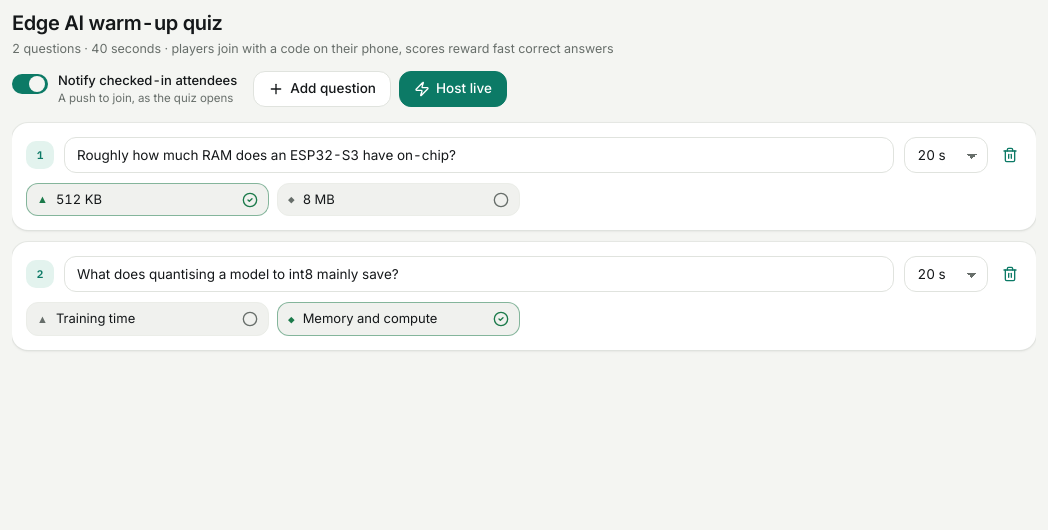
Test: writing the quiz › adds a question with only the answers filled in and the right one marked, then says so
The image size is (1048, 530).
Click the button "Add question" at [322, 89], box [253,71,391,107]
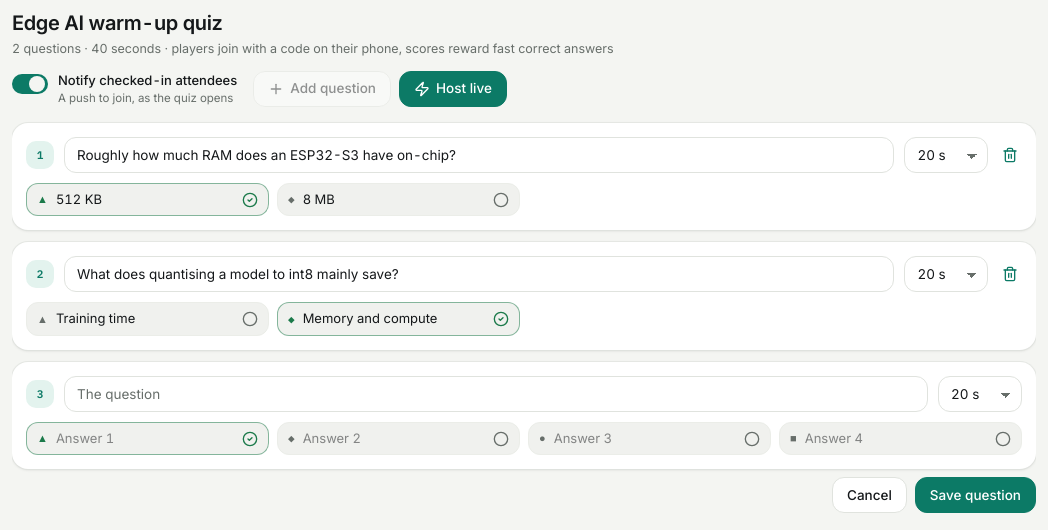
Type "  Which board has a camera?  " into the field named "Question 3" at [496, 394], box [64,376,928,412]
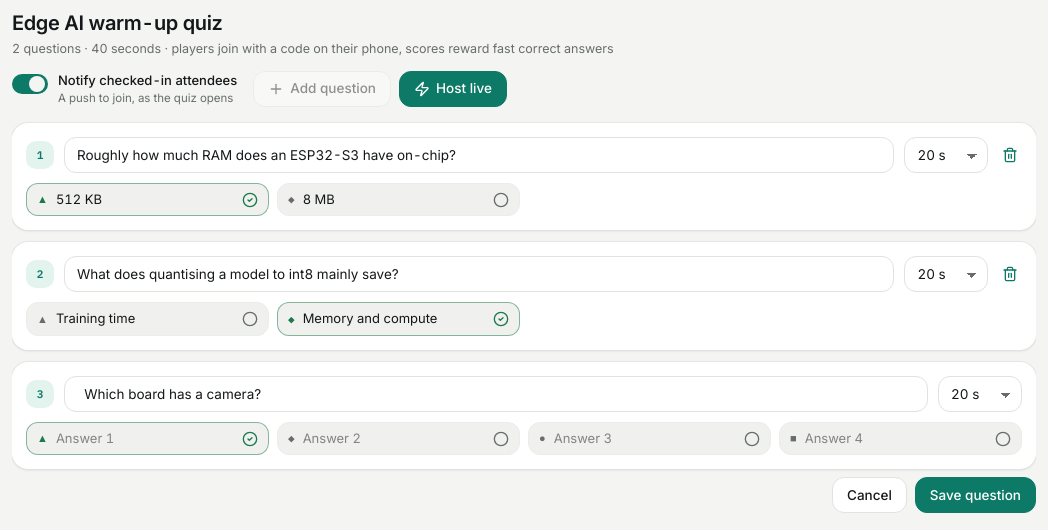
Type "ESP32-CAM" into the field labelled "Answer 1" at [145, 439], box [56,429,234,448]
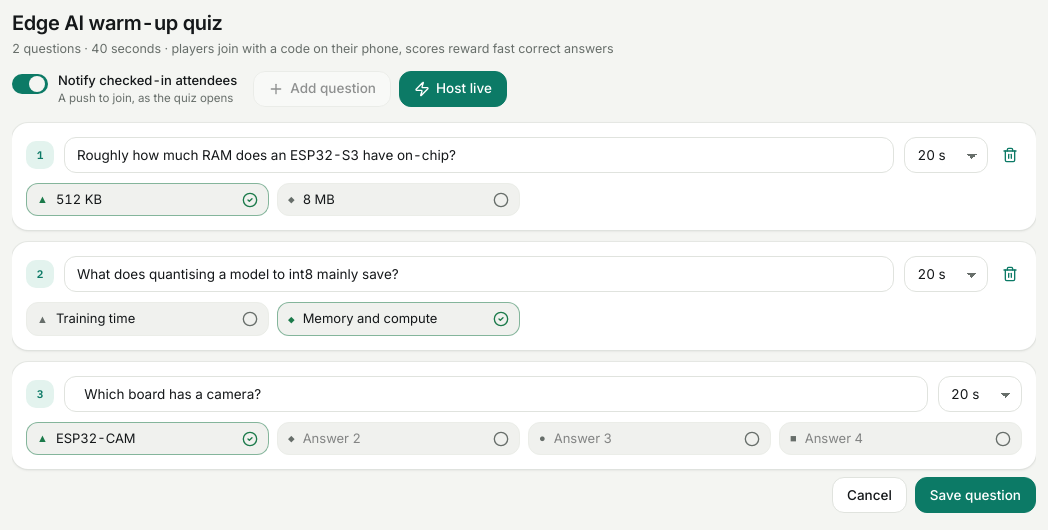
Type "Arduino Uno" into the field labelled "Answer 2" at [394, 439], box [303,429,485,448]
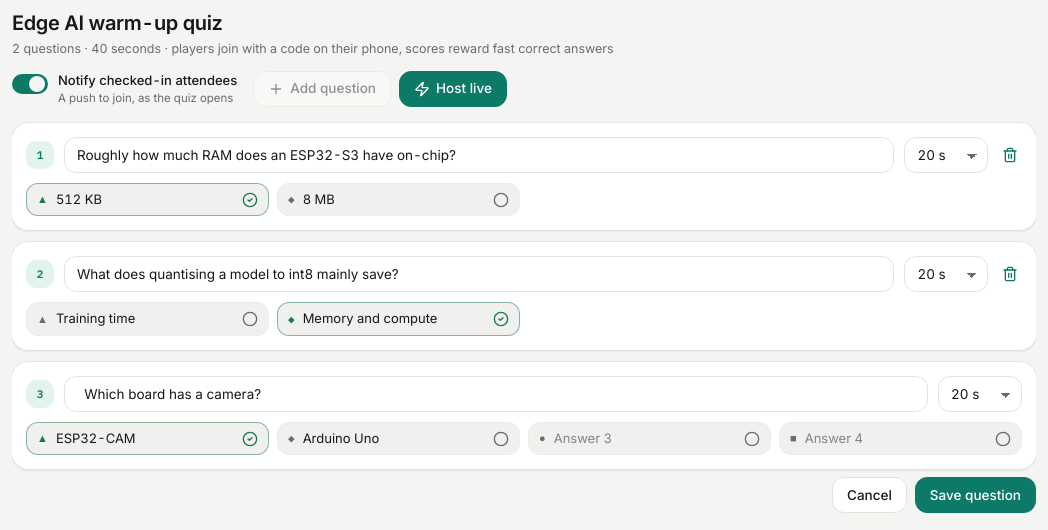
Select "30 s" in the dropdown named "Seconds for question 3" at [980, 394], box [938,376,1022,412]
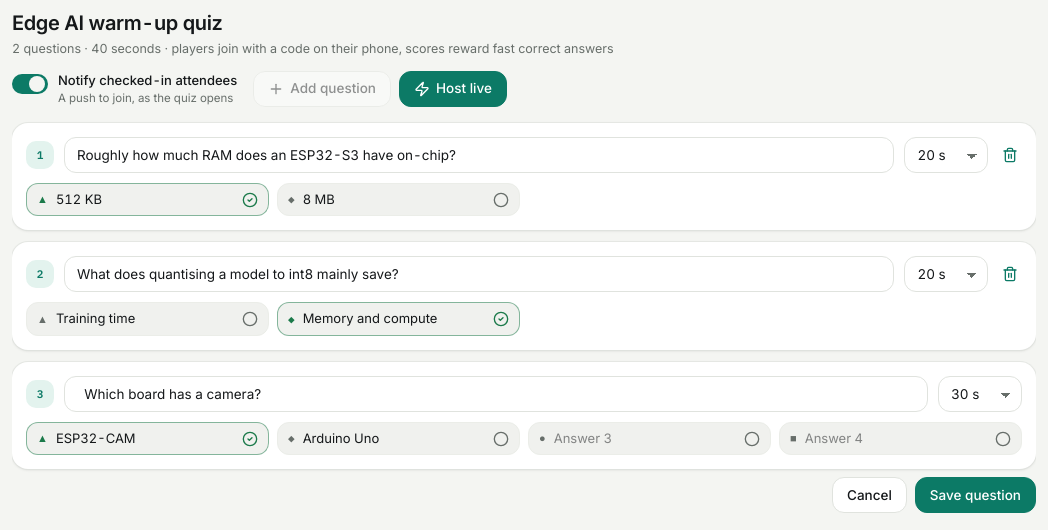
Click the button "Save question" at [975, 495], box [915,477,1036,513]
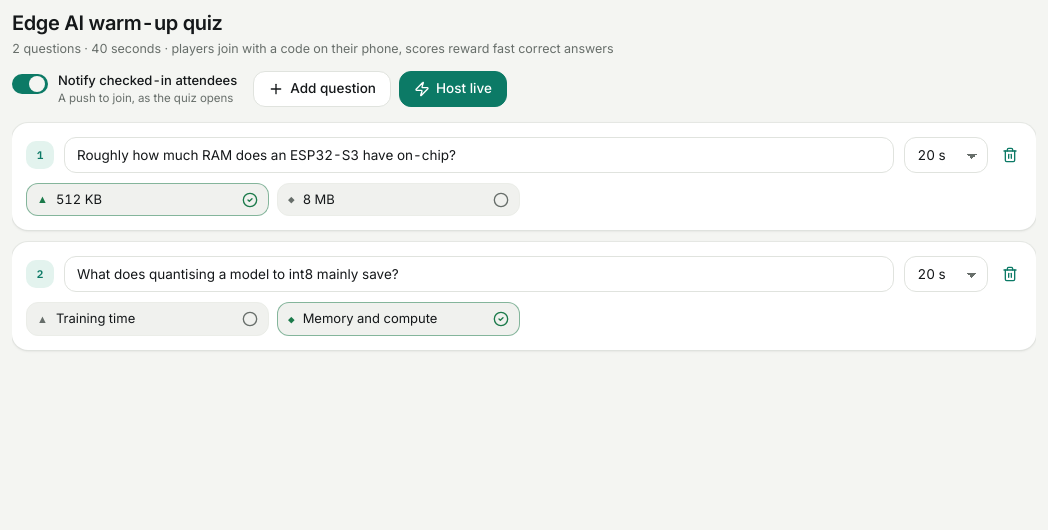
Expected: the button "Save question" is gone
